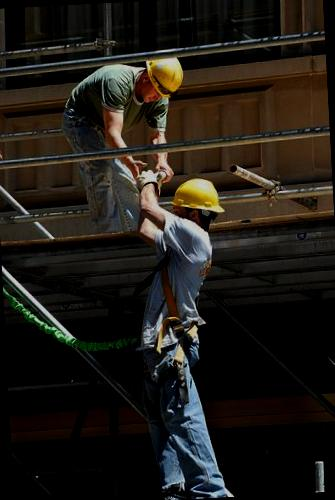person: (121, 163, 242, 500), (54, 55, 200, 236)
